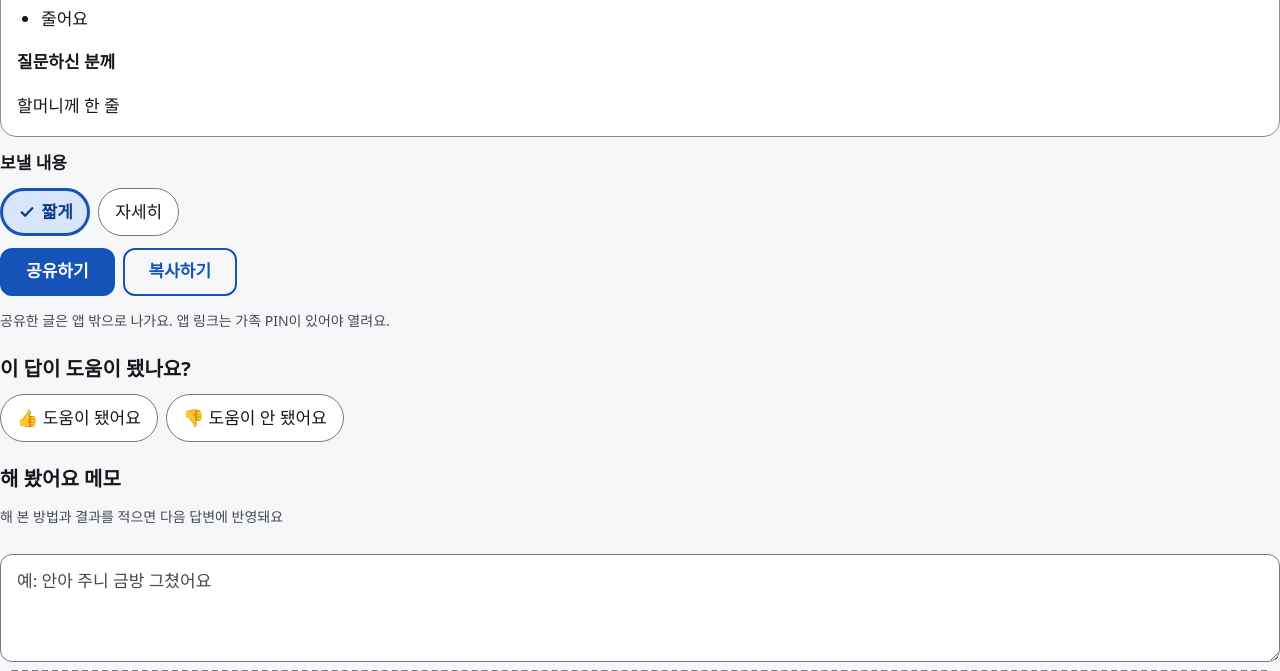
표 (aria-pressed 토글) › 👎 는 「표를 남겼어요. 아쉬운 점을 골라 주세요.」, 이유 없이 👍 와는 다른 안내
(page scrolled)
Click the button "👎 도움이 안 됐어요": (255,418) [166,394,344,442]
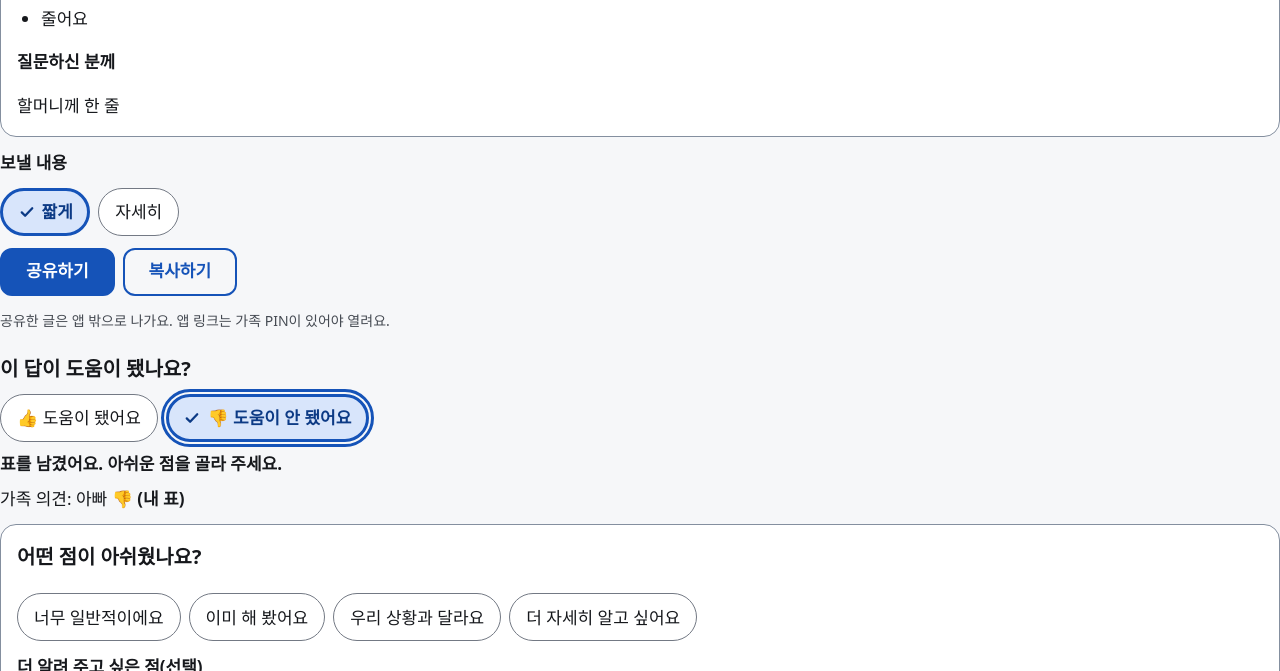
Check: the text "표를 남겼어요. 아쉬운 점을 골라 주세요." is shown, box [0,452,282,475]
